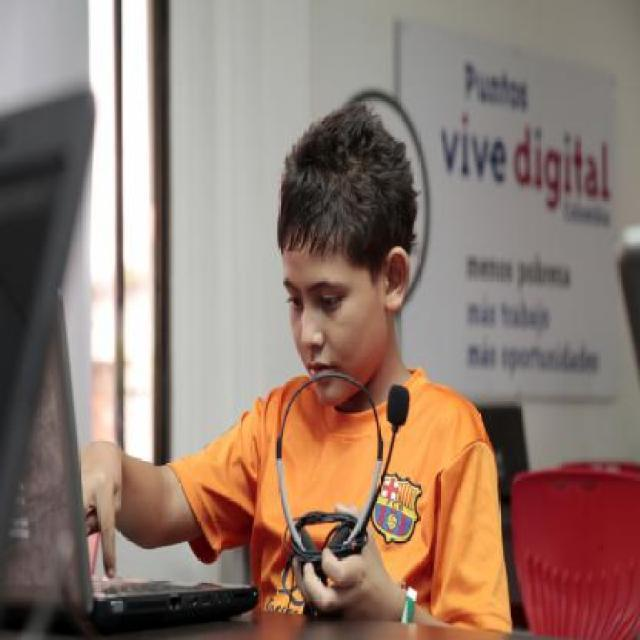laptop_computer: (49, 296, 272, 638), (0, 71, 122, 501)
